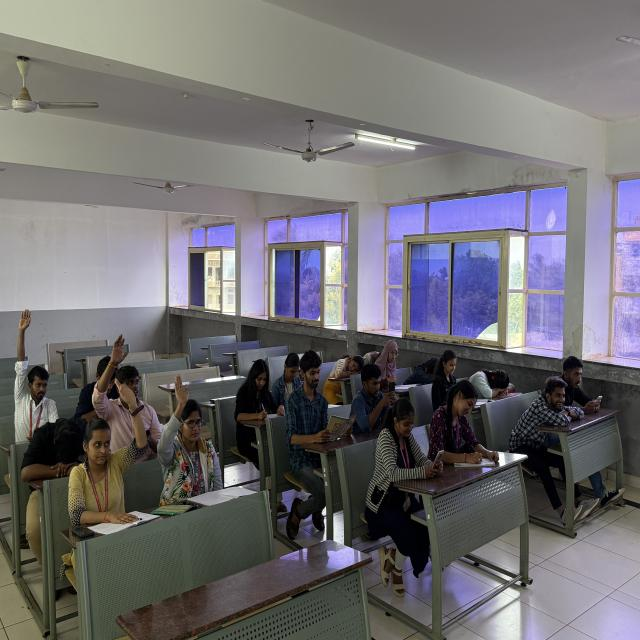Hand Rising: (60, 412, 146, 601), (83, 309, 167, 443), (156, 381, 232, 510), (7, 278, 62, 453)
Reading: (284, 346, 337, 541), (370, 333, 424, 396)
Sleeping: (513, 372, 583, 458), (461, 342, 525, 404), (328, 333, 368, 392)
Using Phone: (555, 339, 611, 422)
Writing: (233, 343, 286, 445), (434, 378, 489, 466)
